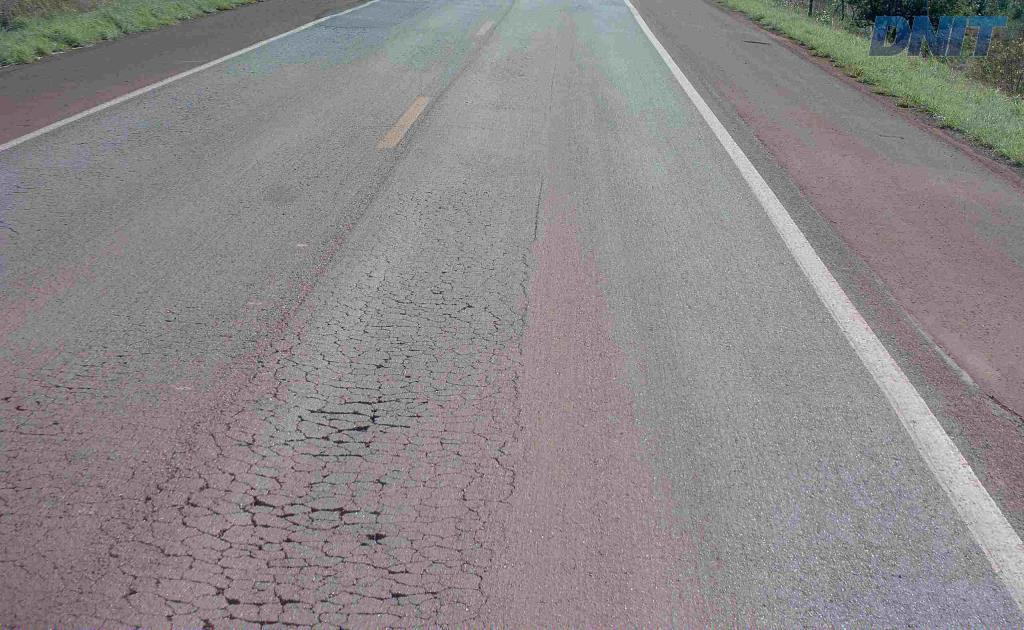crack: (295, 376, 423, 449)
